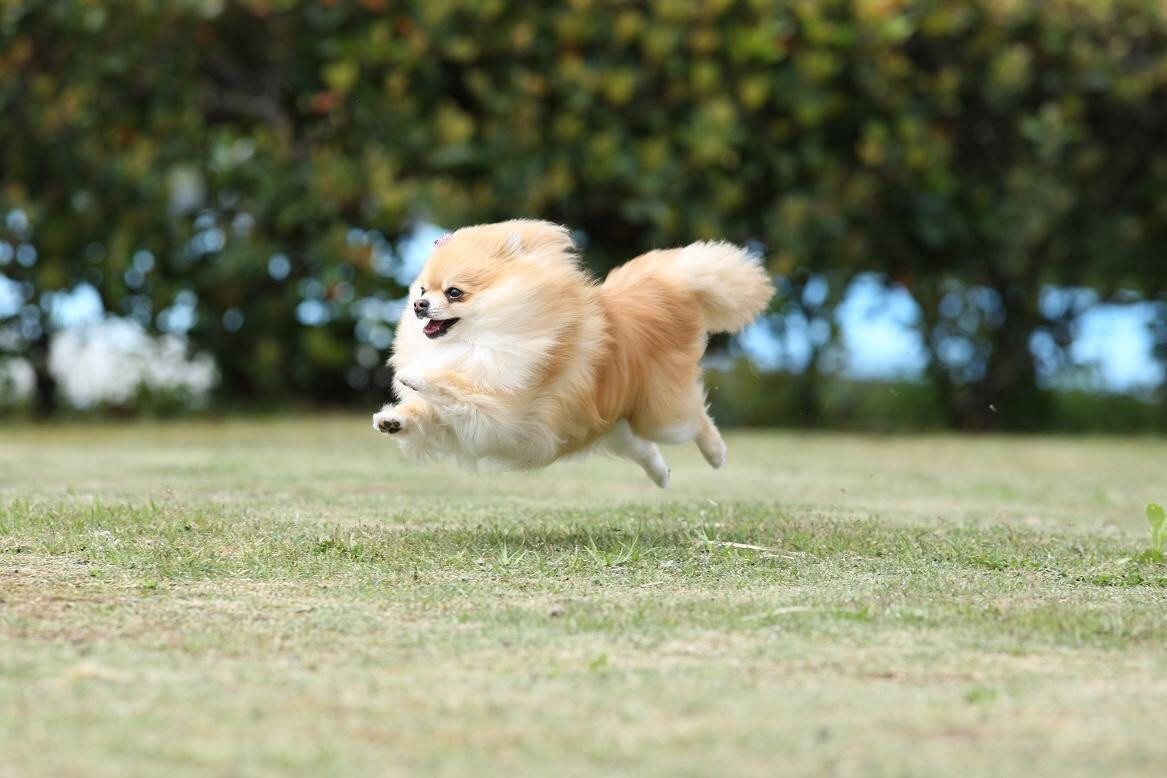adult_dog: (372, 216, 776, 490)
